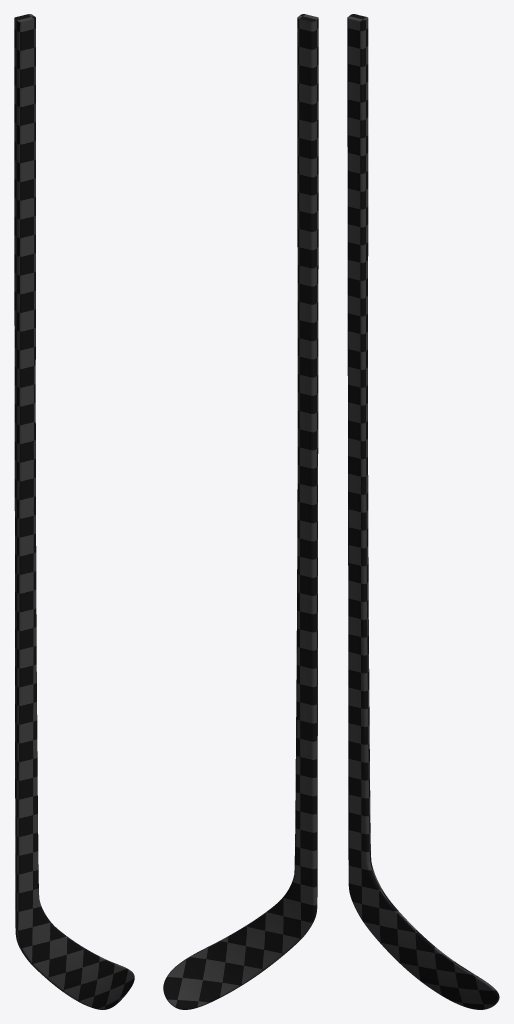
The model's file is P19Y-SBT.glb.
The picture shows the model from 3 angles, left to right: view 1: azimuth 30°, elevation 25°; view 2: azimuth 150°, elevation 25°; view 3: azimuth 330°, elevation 25°; orthographic projection. The views are drawn at different scales.
Visible parts, largest first — view 1: geometry_0; view 2: geometry_0; view 3: geometry_0.
Boxes of the visible parts, bbox=[...] form: geometry_0: bbox=[14, 14, 134, 1009]; geometry_0: bbox=[163, 14, 318, 1009]; geometry_0: bbox=[347, 14, 499, 1009].
Size of the model in its own units: 230 by 1650 by 76.98.
Materials: 1 (1 with a texture image).
